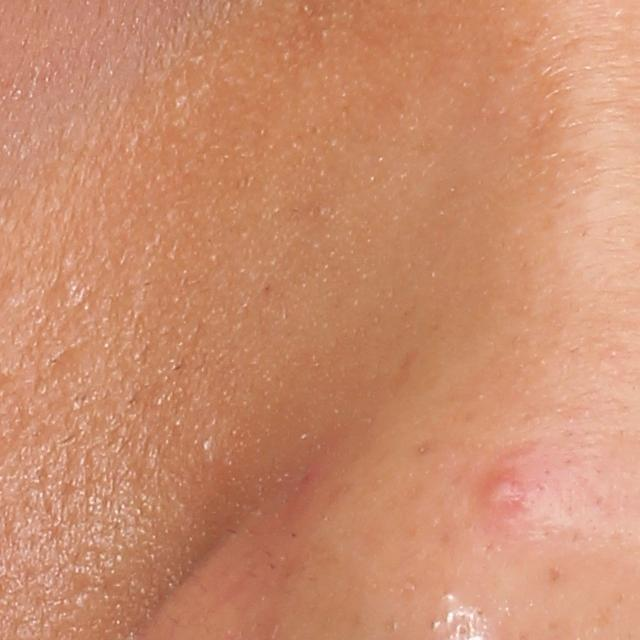papule: (479, 473, 536, 518)
